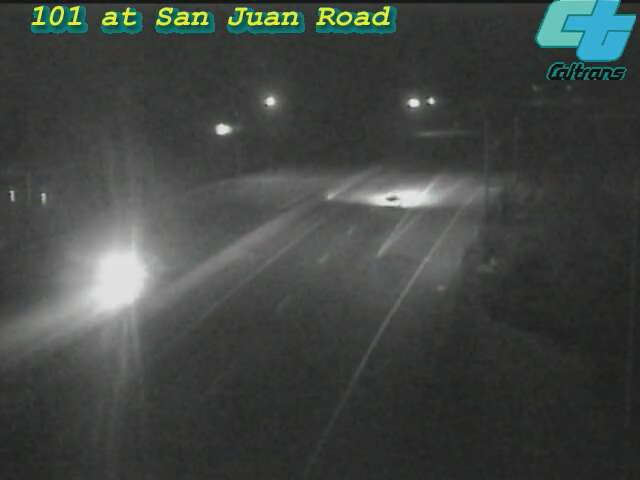vehicle: (349, 163, 429, 243), (74, 233, 154, 313)
